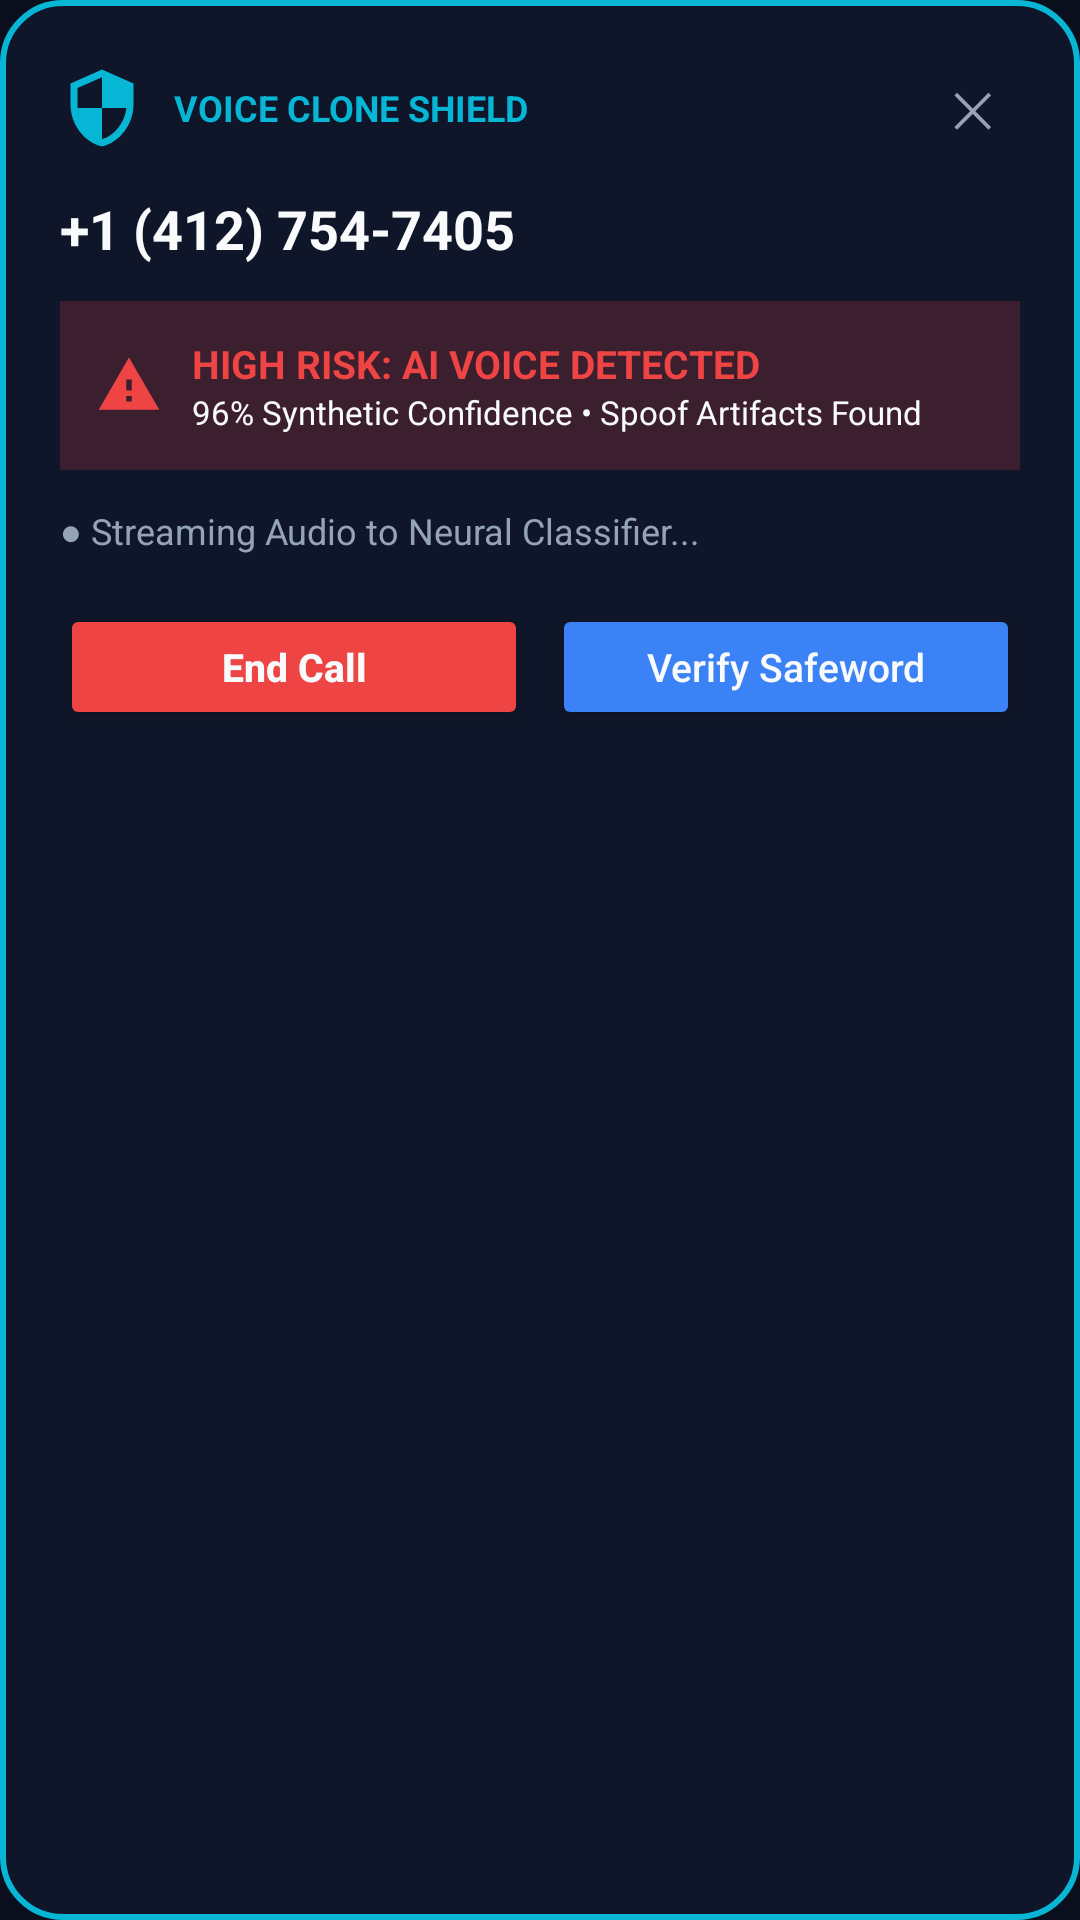

Icon click points for this 1080×1920 phone screenshot, format (x=x, y=y):
warning: (x=129, y=384)
